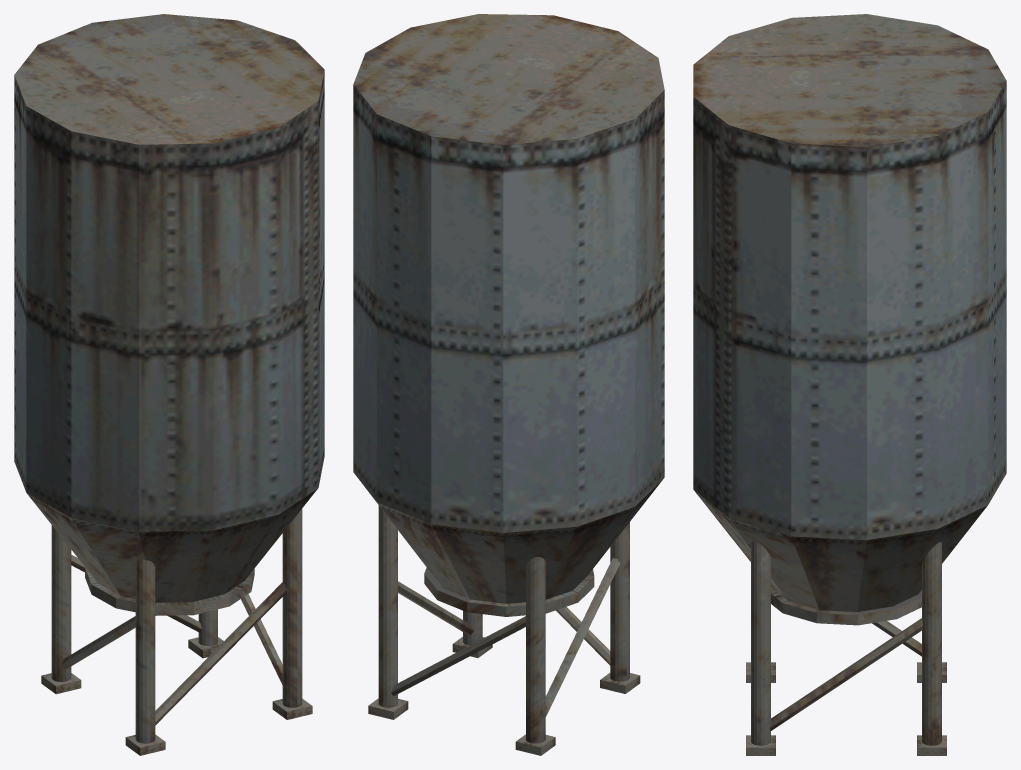
Rendered from 05_liquid_tank.glb.
3 views of the same model, side by side, from view 1: azimuth 30°, elevation 25°; view 2: azimuth 150°, elevation 25°; view 3: azimuth 270°, elevation 25° (orthographic).
Parts seen in each view (by area): view 1: LiquidReservoir; view 2: LiquidReservoir; view 3: LiquidReservoir.
Part boxes in pixels (x1,y1,x2,y2): LiquidReservoir: (14,14,324,755); LiquidReservoir: (353,14,664,755); LiquidReservoir: (693,14,1006,755).
Bounding box in the file's own units: 8.84 × 19.47 × 8.78.
Materials: 1 (1 with a texture image).
